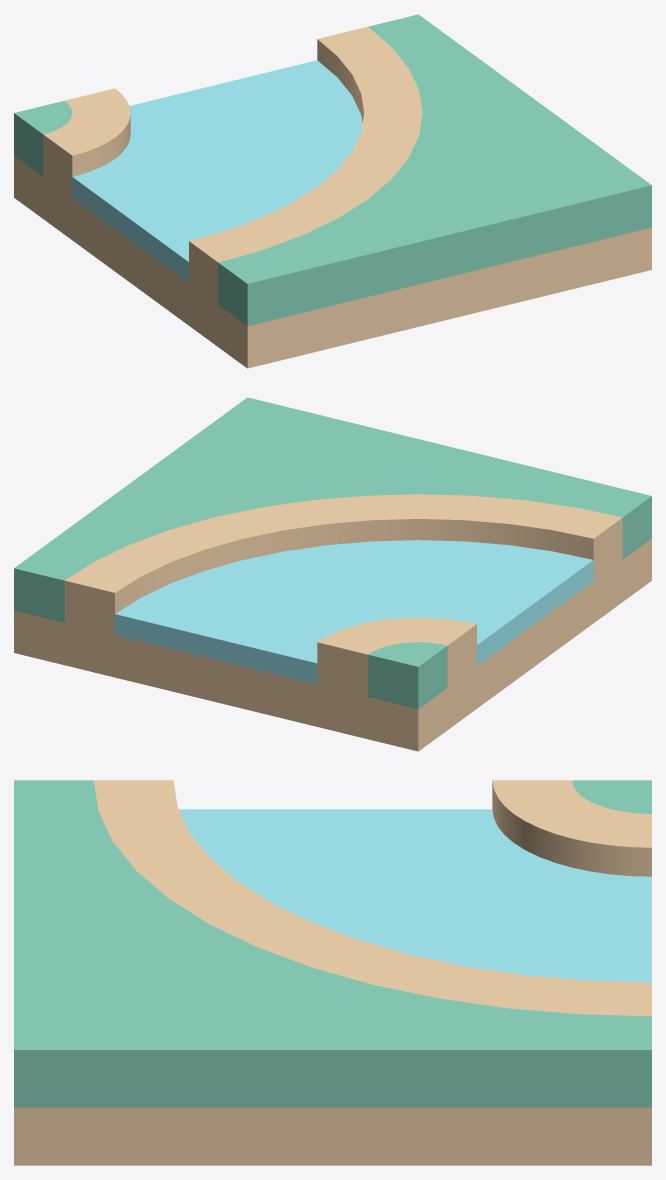
File: tile_riverCorner.glb
3 renders of one model, top to bottom at view 1: azimuth 30°, elevation 25°; view 2: azimuth 150°, elevation 25°; view 3: azimuth 270°, elevation 25°, orthographic. The views are drawn at different scales.
Visible parts, largest first — view 1: tile_riverCorner; view 2: tile_riverCorner; view 3: tile_riverCorner.
Boxes of the visible parts, left/top/right/bottom form: tile_riverCorner: left=14, top=14, right=651, bottom=368; tile_riverCorner: left=14, top=397, right=651, bottom=751; tile_riverCorner: left=14, top=780, right=651, bottom=1165.
Size of the model in its own units: 1 by 0.2 by 1.
